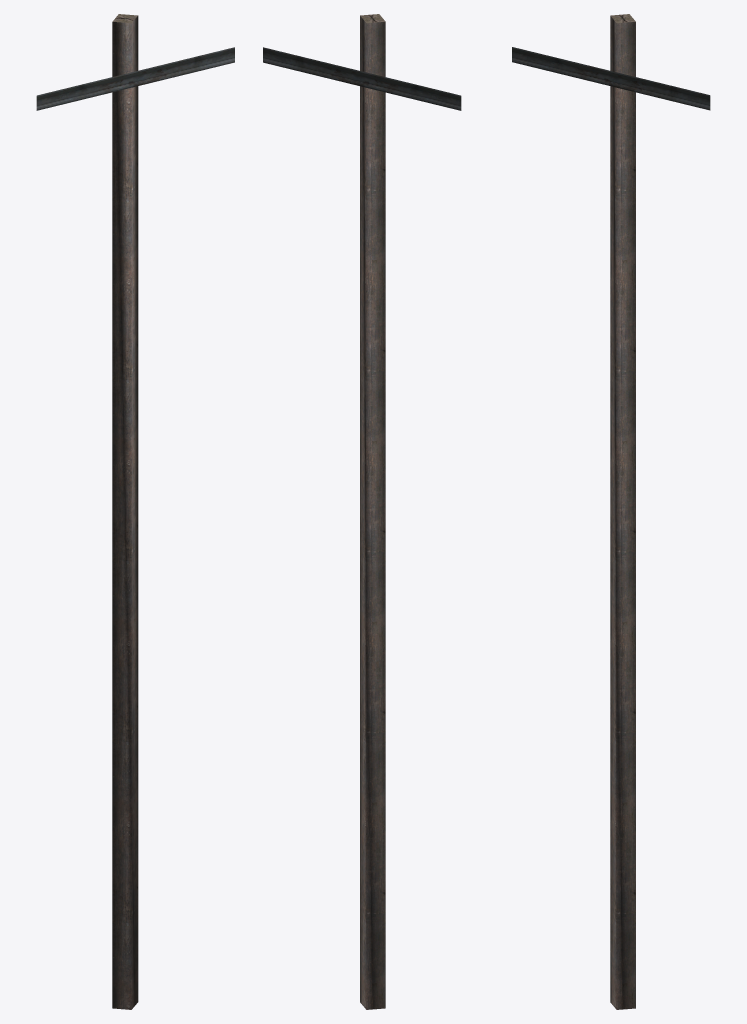
File: Building_Dianxiangan01_lod1.glb
3 renders of one model, left to right at view 1: azimuth 30°, elevation 25°; view 2: azimuth 150°, elevation 25°; view 3: azimuth 330°, elevation 25°, orthographic.
Parts seen in each view (by area): view 1: common_dianxiangan_01_lod1; view 2: common_dianxiangan_01_lod1; view 3: common_dianxiangan_01_lod1.
Boxes of the visible parts, x1,y1,x2,y2 form: common_dianxiangan_01_lod1: (36, 14, 234, 1009); common_dianxiangan_01_lod1: (263, 14, 461, 1009); common_dianxiangan_01_lod1: (512, 14, 710, 1009).
Size of the model in its own units: 1.92 by 9.11 by 0.3754.
1 material, 1 textured.
